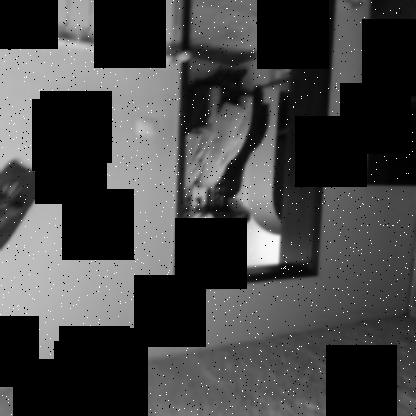Porte: (171, 1, 340, 295)
